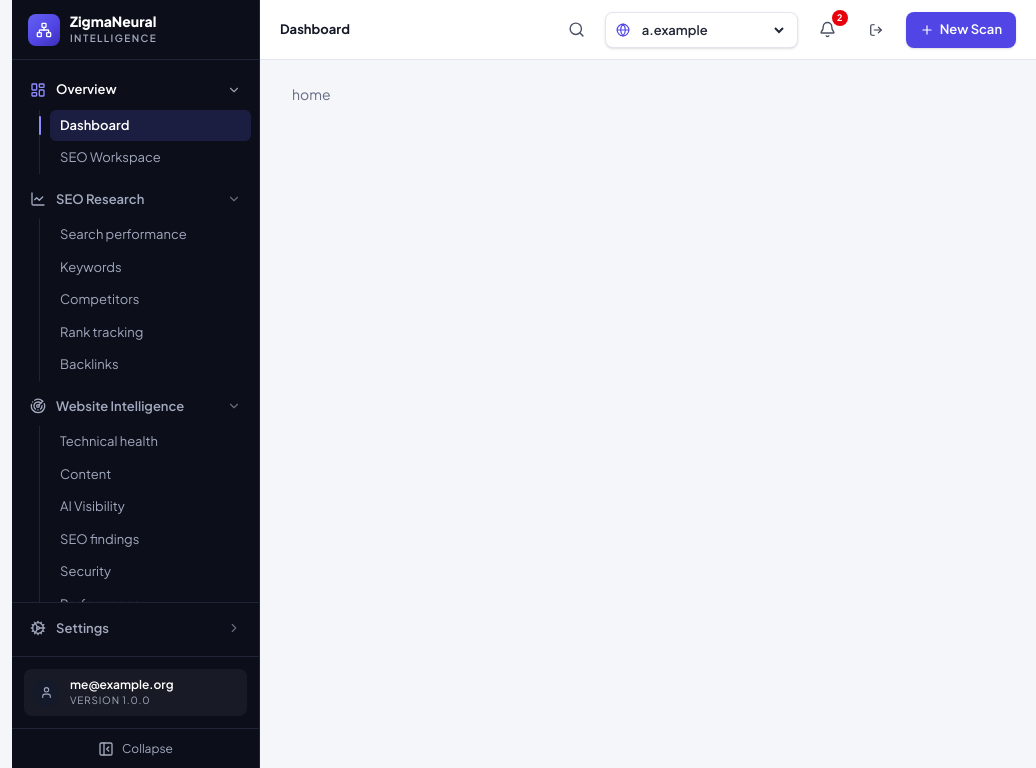
Scenario: Shell › shows the real open-alert count and links the bell to /monitoring/alerts
Expected: the text with test id "open-alert-count" reads "2", top-left (837, 12), bottom-right (842, 22)
Step 1. Click the button named "Alerts: 2 open" → click(828, 30), box top-left (810, 12), bottom-right (846, 48)
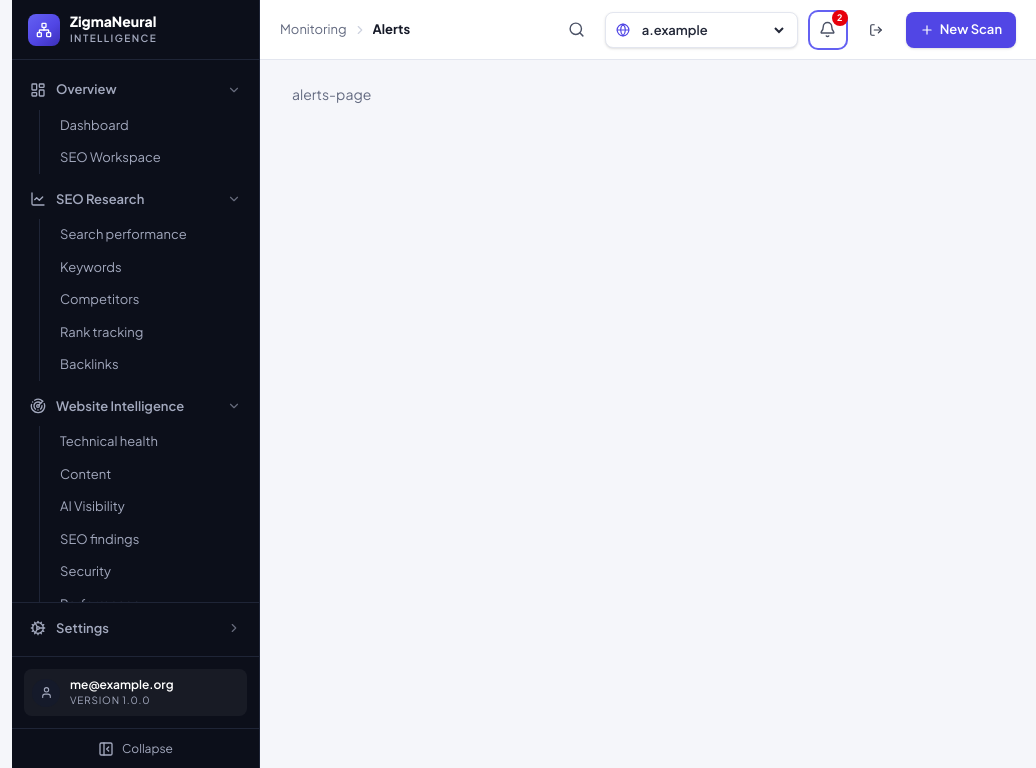
Expected: the text "alerts-page" is shown, top-left (292, 85), bottom-right (371, 103)
